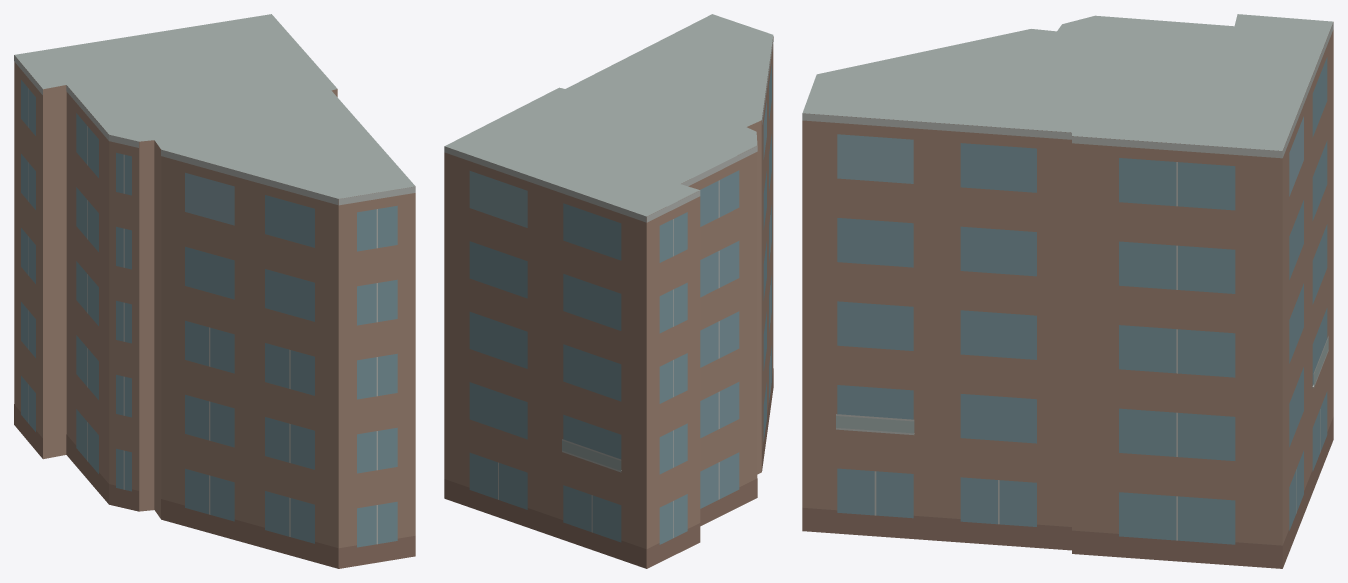
Rendered from survey-upis-32957902.glb.
3 views of the same model, side by side, from view 1: azimuth 30°, elevation 25°; view 2: azimuth 150°, elevation 25°; view 3: azimuth 270°, elevation 25° (orthographic). The views are drawn at different scales.
Parts seen in each view (by area): view 1: survey-upis-32957902.tmp; view 2: survey-upis-32957902.tmp; view 3: survey-upis-32957902.tmp.
Part boxes in pixels (x1=…): survey-upis-32957902.tmp: x1=14, y1=14, x2=415, y2=568; survey-upis-32957902.tmp: x1=444, y1=14, x2=773, y2=568; survey-upis-32957902.tmp: x1=802, y1=14, x2=1333, y2=568.
Bounding box in the file's own units: 9.86 × 14 × 16.14.
